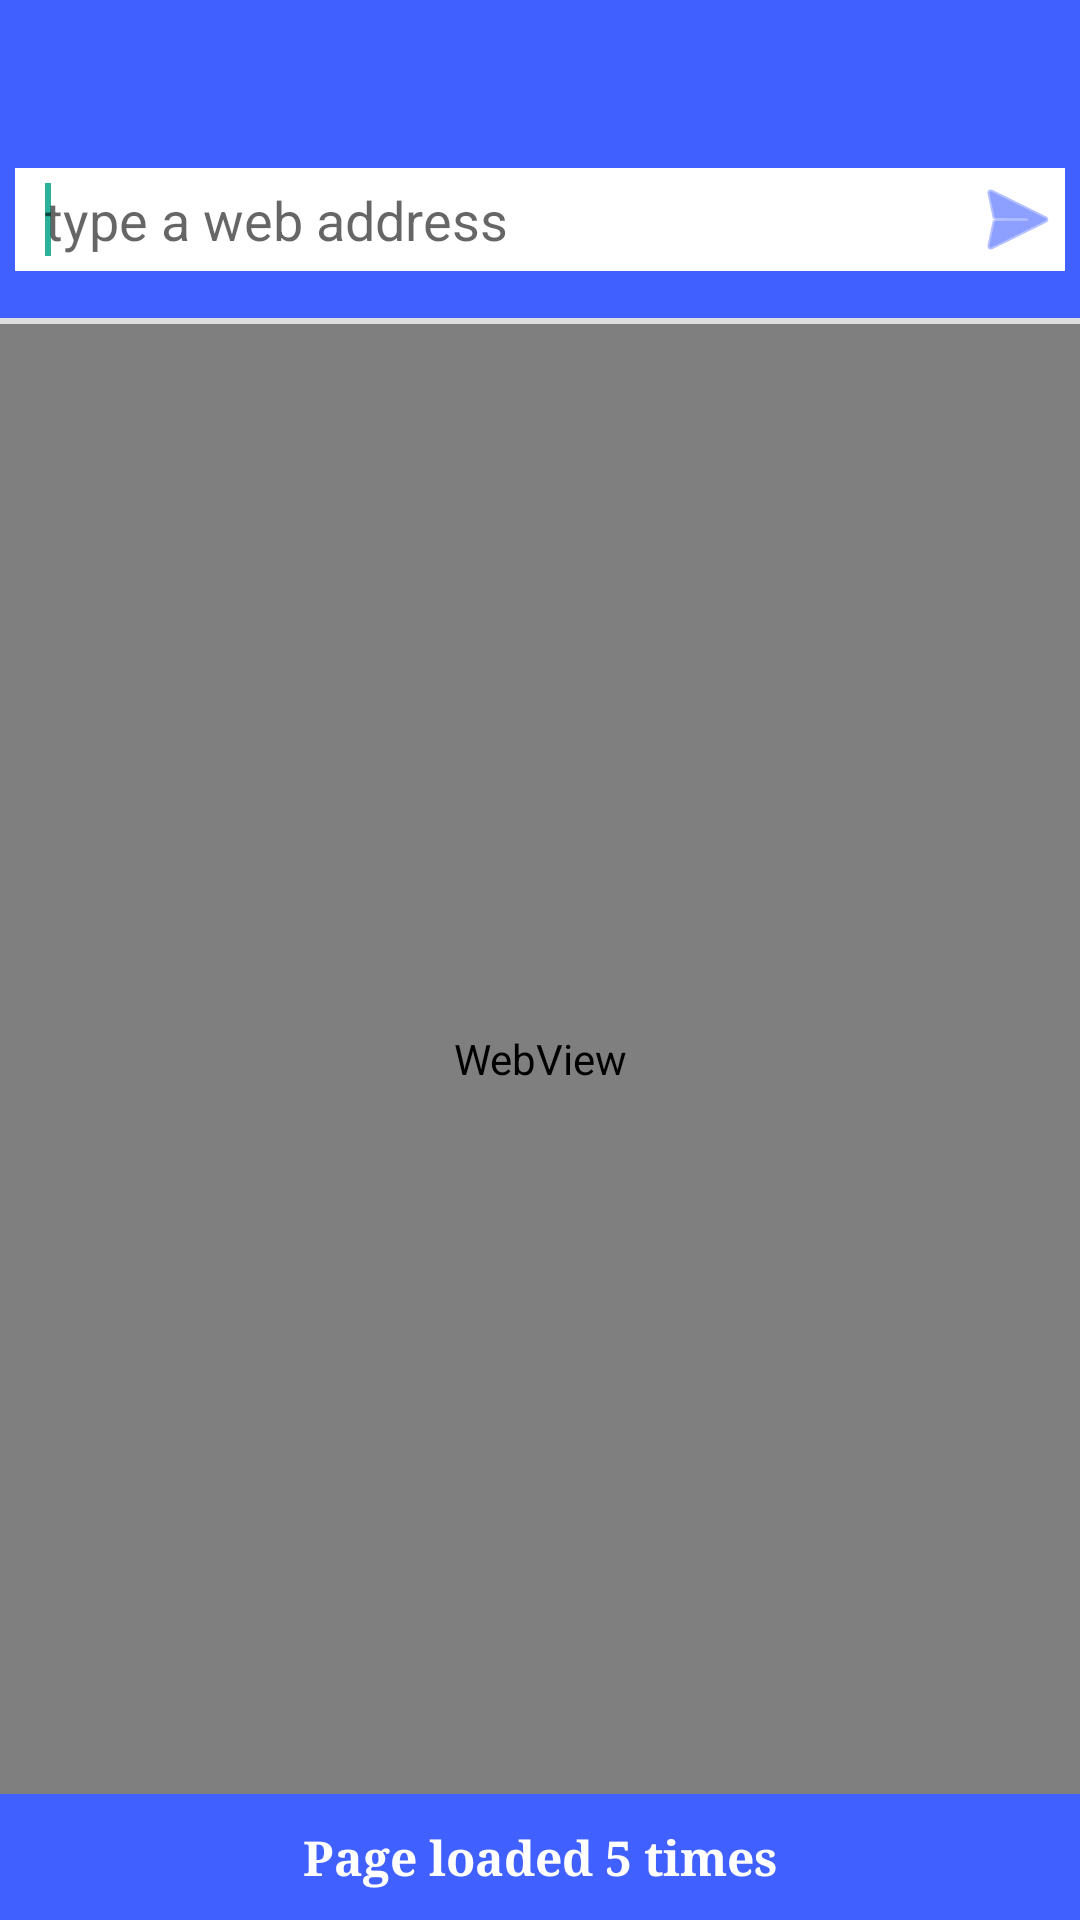

Screen size 1080×1920. Icon name, then its center in pixels as (x=x, y=y):
send: (x=1018, y=219)
